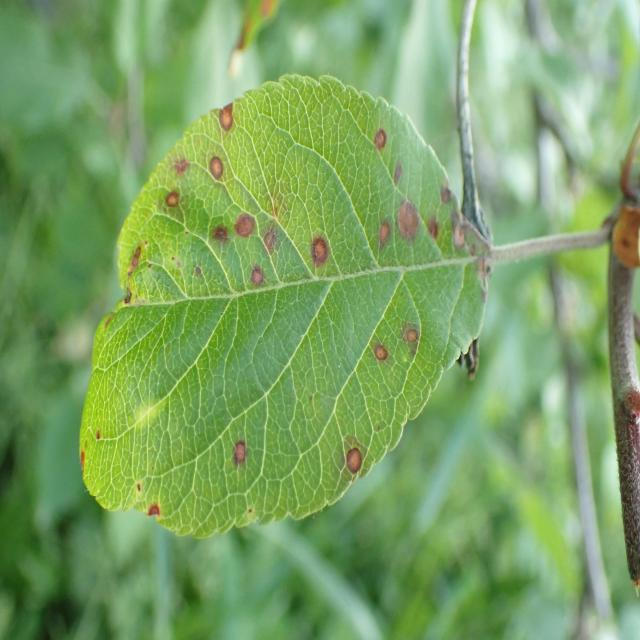Black Rot: (293, 217, 338, 279), (334, 434, 370, 498), (359, 317, 400, 373), (427, 143, 459, 211), (396, 192, 428, 257), (229, 406, 258, 477), (450, 213, 475, 275), (234, 195, 256, 254), (372, 210, 396, 262), (366, 116, 394, 160), (242, 254, 268, 301), (211, 95, 239, 137), (399, 310, 424, 357), (262, 206, 280, 268), (123, 234, 146, 281), (70, 434, 92, 482), (170, 140, 194, 181), (387, 154, 406, 204), (426, 210, 446, 256), (158, 181, 186, 211), (146, 488, 160, 547), (208, 150, 230, 184), (207, 220, 232, 246), (91, 416, 109, 448), (131, 474, 144, 498)
